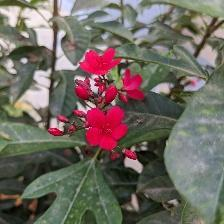jatropha: (83, 106, 131, 151)
